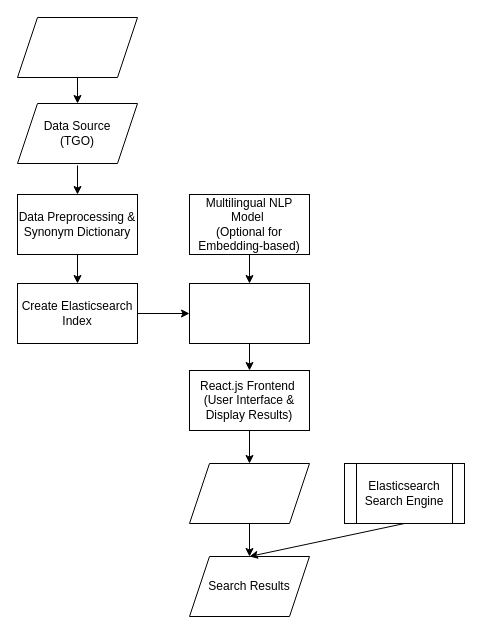
This 482x634 diagram has some shape labels left out. The shapes that lost their labels are listed below. From the top down, each one's centre as x and y in pixels, then its label:
At [77,47]: "Web Scraping (Data Extraction)".
At [249,313]: "FastAPI Backend (Query Processing & API Layer)".
At [249,493]: "User Query (Thai/English)".
